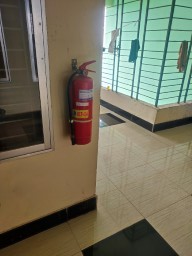fire_extinguisher: (44, 127, 109, 166)
